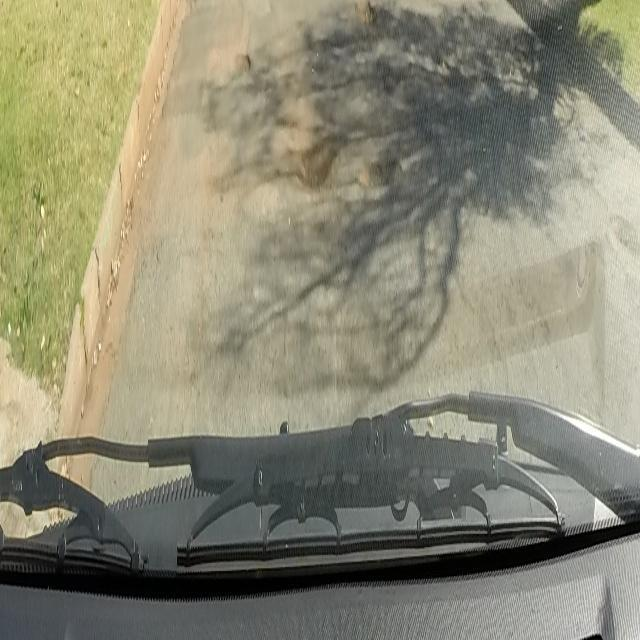pothole: (295, 141, 336, 191), (356, 156, 403, 192), (611, 206, 636, 259), (230, 46, 252, 82), (354, 0, 376, 32)
